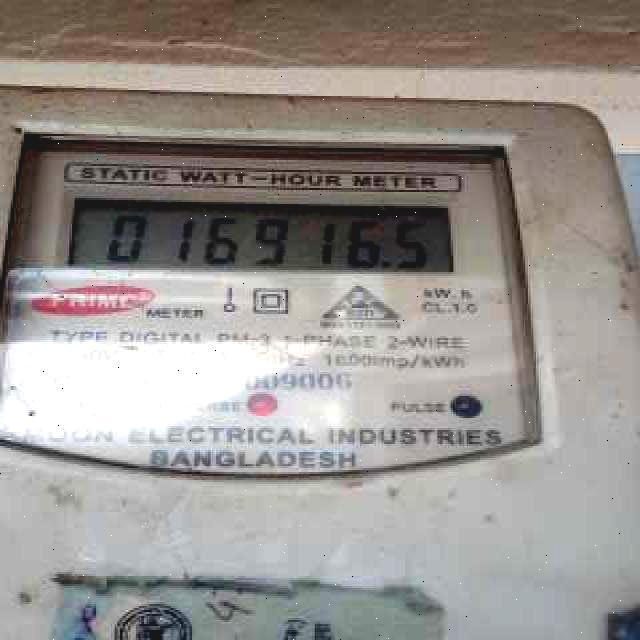LCD: (53, 184, 465, 281)
